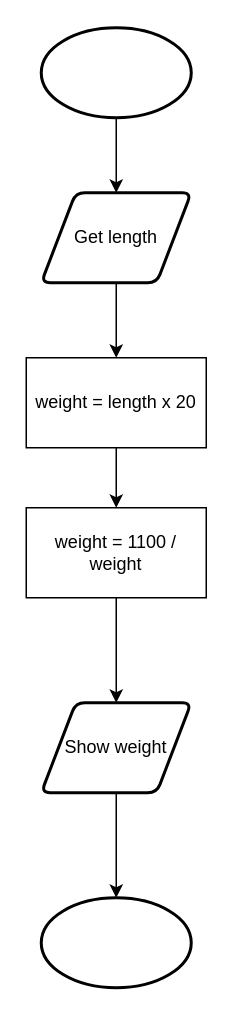
The diagram is 233 pixels wide and 1014 high, and some of its shapes have lost their labels. Here are the shapes that lost their labels. From the top down, the centre of each, then its label:
At (115,72): "Start".
At (115,942): "End".
